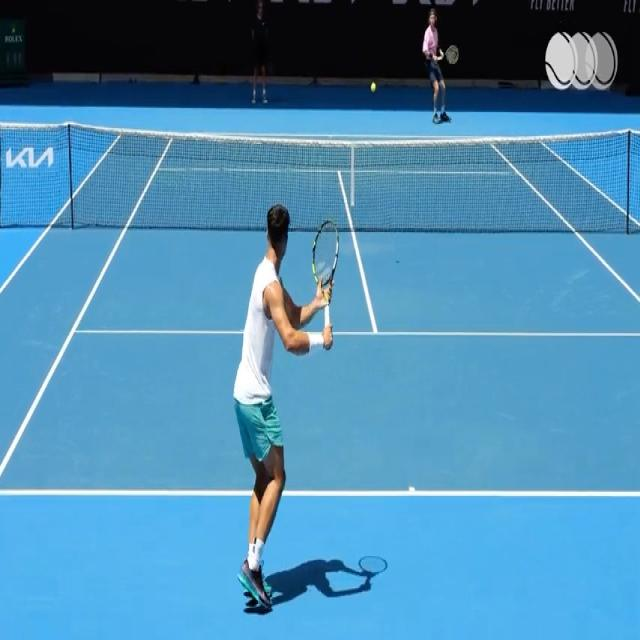forehand-ready: (234, 206, 342, 606)
